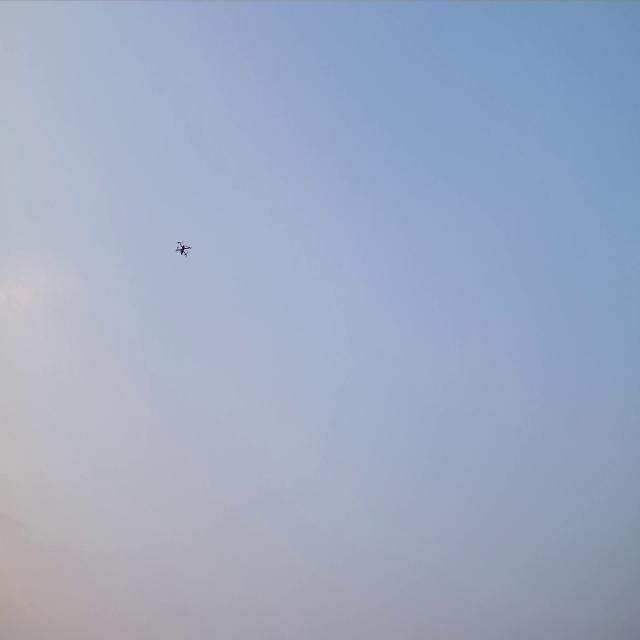UAV: (173, 239, 192, 259)
